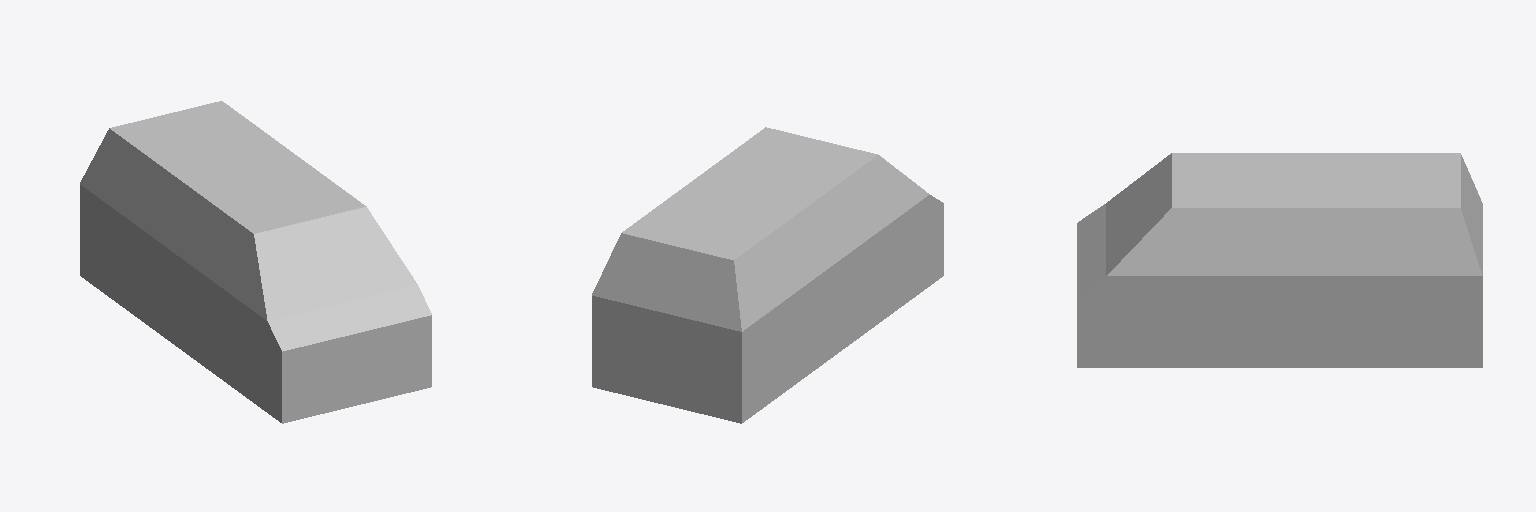
File: van_car.obj
3 views of the same model, side by side, from view 1: azimuth 30°, elevation 25°; view 2: azimuth 150°, elevation 25°; view 3: azimuth 270°, elevation 25° (orthographic).
Parts seen in each view (by area): view 1: van_car; view 2: van_car; view 3: van_car.
Boxes of the visible parts, x1,y1,x2,y2 form: van_car: [80, 101, 431, 423]; van_car: [592, 127, 943, 423]; van_car: [1077, 153, 1482, 367].
Bounding box in the file's own units: 12 × 11.5 × 28.